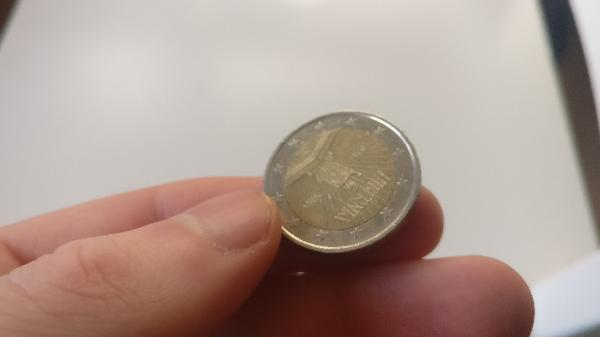Two Euro: (262, 111, 420, 256)
